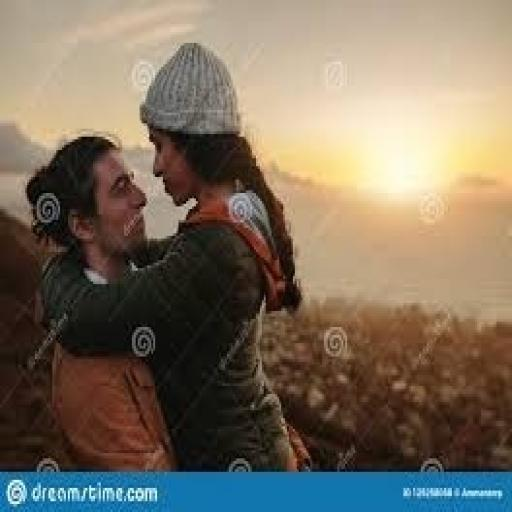hugging: (24, 40, 304, 472)
